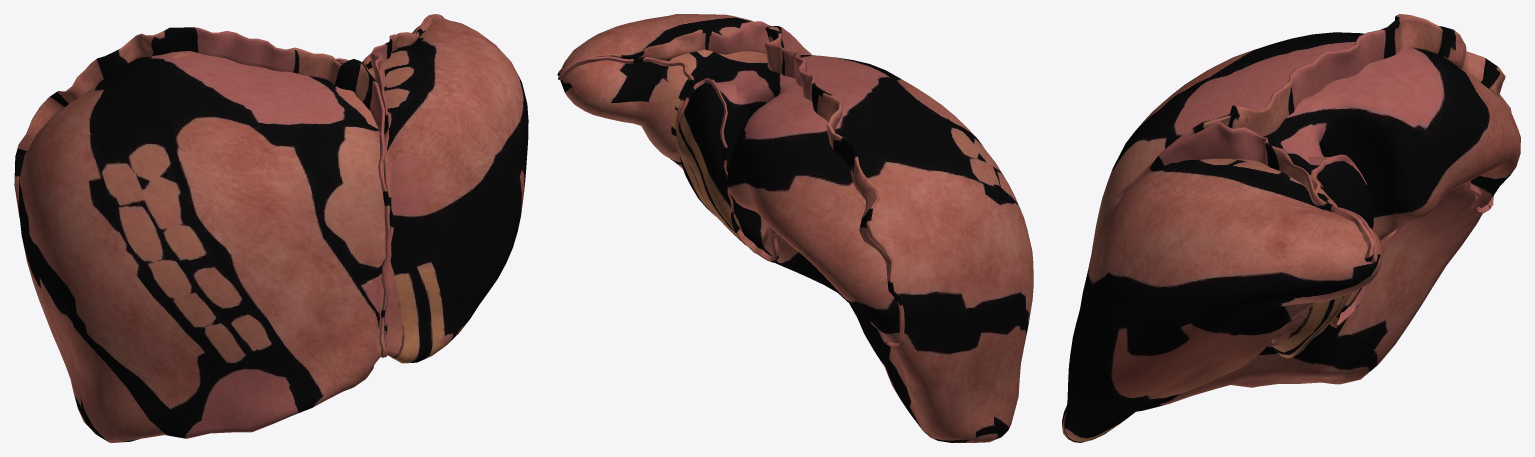
Rendered from Digestive.Liver.Lobe_Right.obj.
3 views of the same model, side by side, from view 1: azimuth 30°, elevation 25°; view 2: azimuth 150°, elevation 25°; view 3: azimuth 270°, elevation 25° (orthographic). The views are drawn at different scales.
Parts seen in each view (by area): view 1: Digestive:Liver:Lobe_Right_Liver.006; view 2: Digestive:Liver:Lobe_Right_Liver.006; view 3: Digestive:Liver:Lobe_Right_Liver.006.
Part boxes in pixels (<box>): Digestive:Liver:Lobe_Right_Liver.006: <box>14,14,528,442</box>; Digestive:Liver:Lobe_Right_Liver.006: <box>557,14,1033,442</box>; Digestive:Liver:Lobe_Right_Liver.006: <box>1062,14,1520,442</box>.
Bounding box in the file's own units: 0.9457 × 0.7197 × 0.6791.
